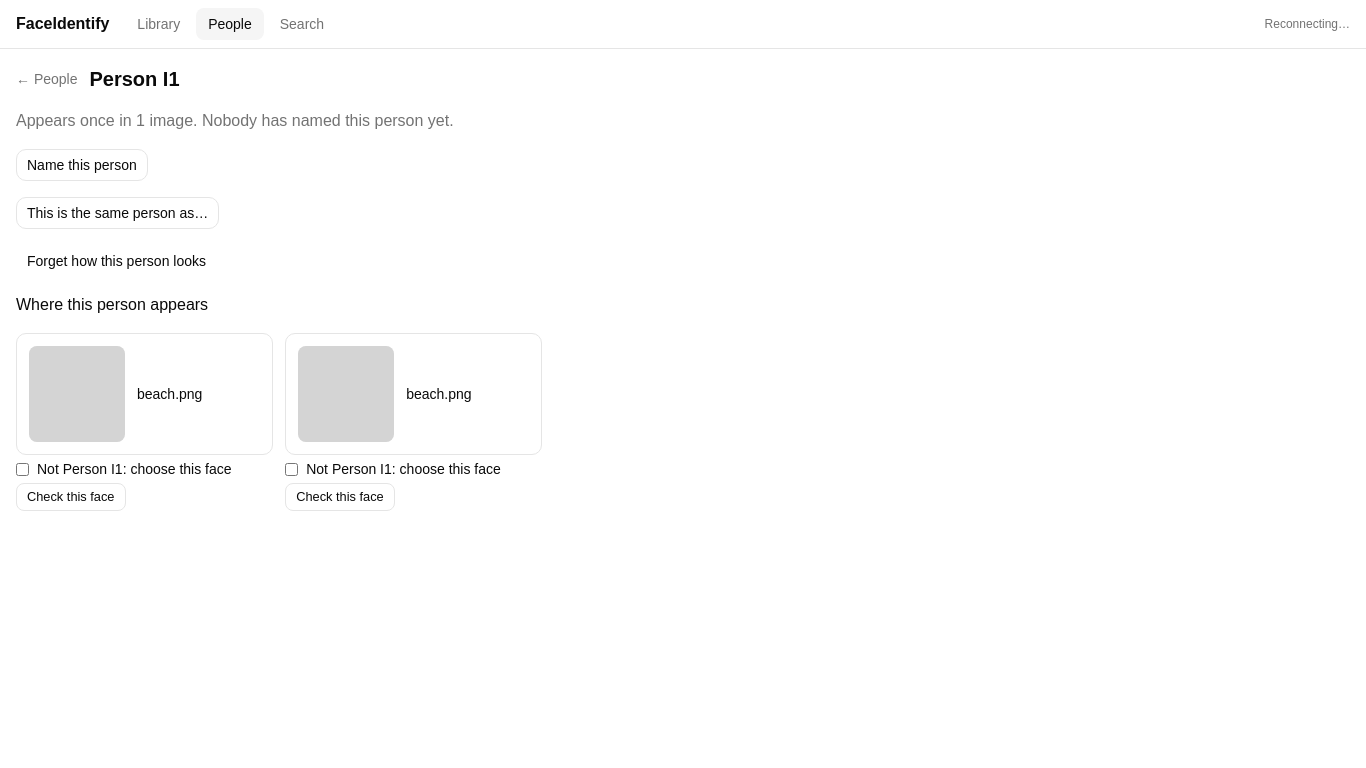
Test: the people to choose from › are offered from the person screen too, for each appearance
Click the 1st button "Check this face" at (71, 497), box [16, 483, 126, 511]
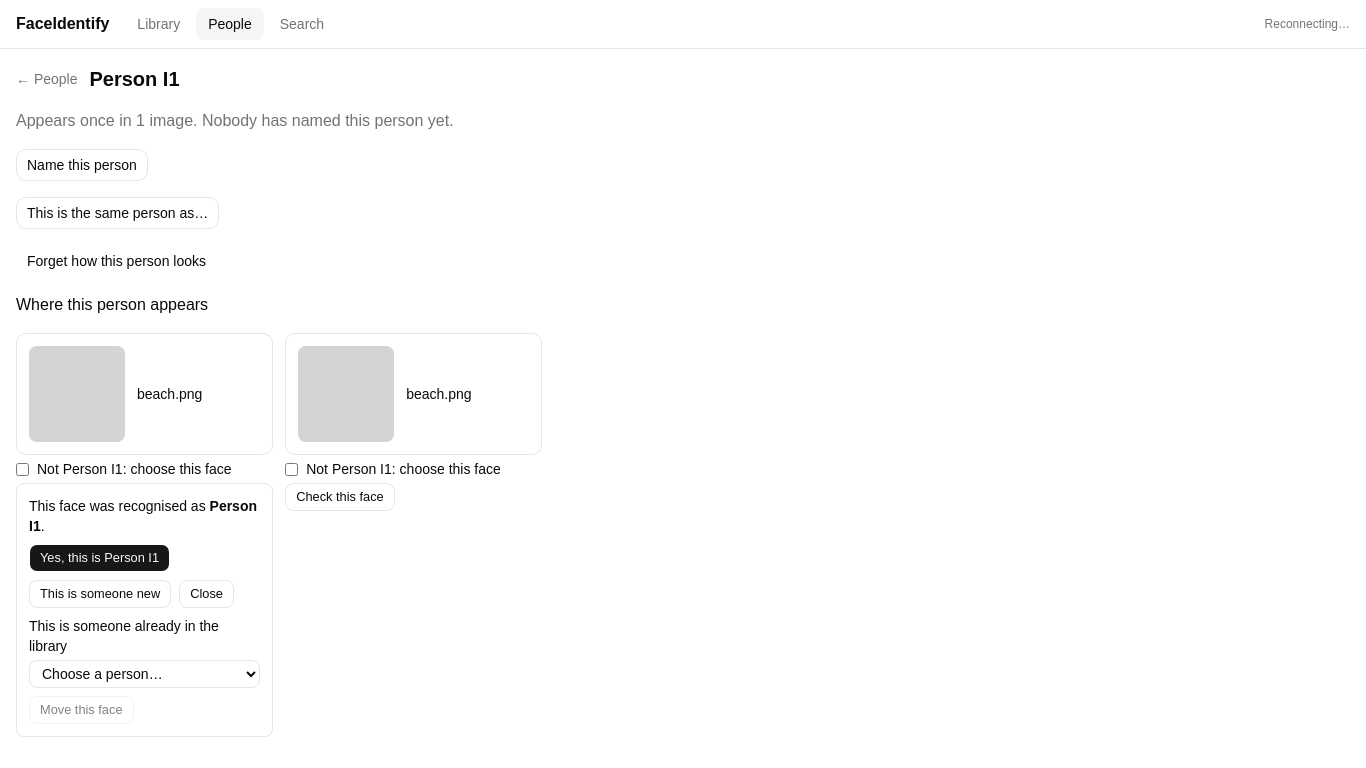
Check: the element named "Check Person I1" is shown, box [16, 483, 273, 737]
